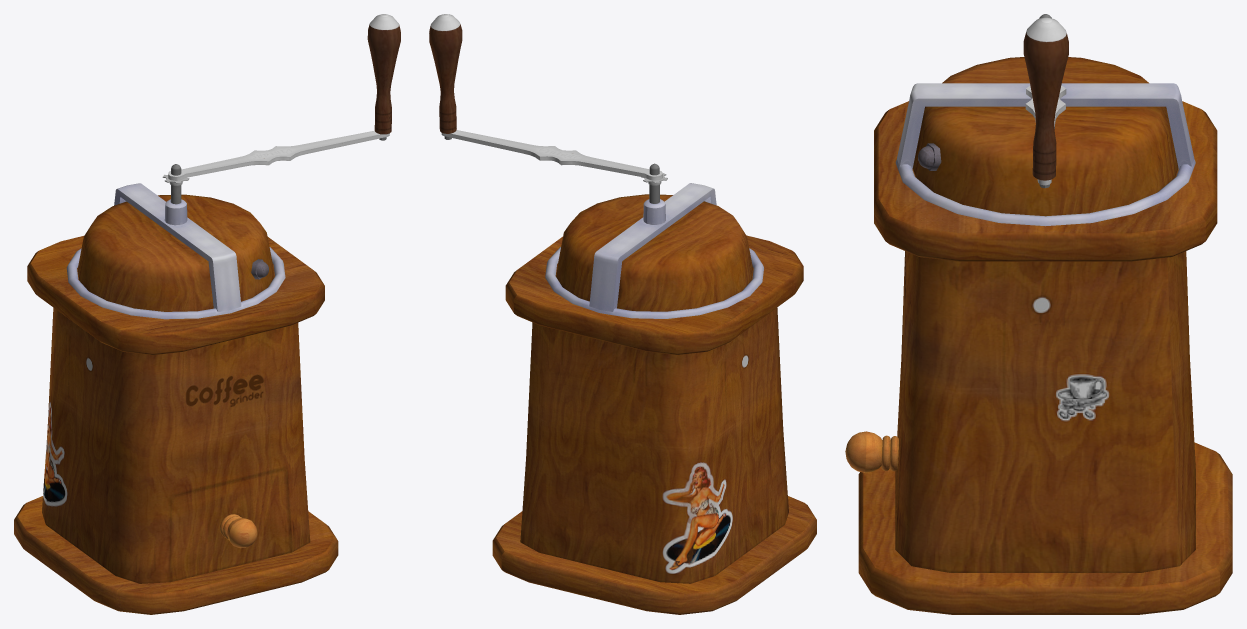
Rendered from coffee_grinder.glb.
The picture shows the model from 3 angles, left to right: view 1: azimuth 30°, elevation 25°; view 2: azimuth 150°, elevation 25°; view 3: azimuth 270°, elevation 25°; orthographic projection. The views are drawn at different scales.
Parts seen in each view (by area): view 1: grinder_low_03, grinder_low_06, grinder_low_02, grinder_low_01, grinder_low_05, grinder_low_13, grinder_low_12, grinder_low_09, grinder_low_16; view 2: grinder_low_03, grinder_low_06, grinder_low_02, grinder_low_01, grinder_low_05, grinder_low_13, grinder_low_12, grinder_low_09; view 3: grinder_low_03, grinder_low_06, grinder_low_01, grinder_low_02, grinder_low_05, grinder_low_13, grinder_low_16.
Boxes of the visible parts, <box> form: grinder_low_03: <box>42,307,310,583</box>; grinder_low_06: <box>77,194,274,311</box>; grinder_low_02: <box>27,236,324,355</box>; grinder_low_01: <box>14,496,338,614</box>; grinder_low_05: <box>66,183,285,319</box>; grinder_low_13: <box>367,14,400,134</box>; grinder_low_12: <box>168,130,389,180</box>; grinder_low_09: <box>164,164,187,225</box>; grinder_low_16: <box>227,518,257,548</box>; grinder_low_03: <box>520,308,788,583</box>; grinder_low_06: <box>556,194,752,311</box>; grinder_low_02: <box>505,235,803,354</box>; grinder_low_01: <box>492,496,816,614</box>; grinder_low_05: <box>545,183,763,318</box>; grinder_low_13: <box>429,14,462,133</box>; grinder_low_12: <box>441,130,662,180</box>; grinder_low_09: <box>643,163,665,224</box>; grinder_low_03: <box>895,251,1195,572</box>; grinder_low_06: <box>913,57,1178,216</box>; grinder_low_01: <box>858,442,1232,614</box>; grinder_low_02: <box>874,101,1217,261</box>; grinder_low_05: <box>895,83,1195,226</box>; grinder_low_13: <box>1023,17,1068,180</box>; grinder_low_16: <box>845,431,882,472</box>.
Bounding box in the file's own units: 1.29 × 1.75 × 0.9247.
1 material, 1 textured.
